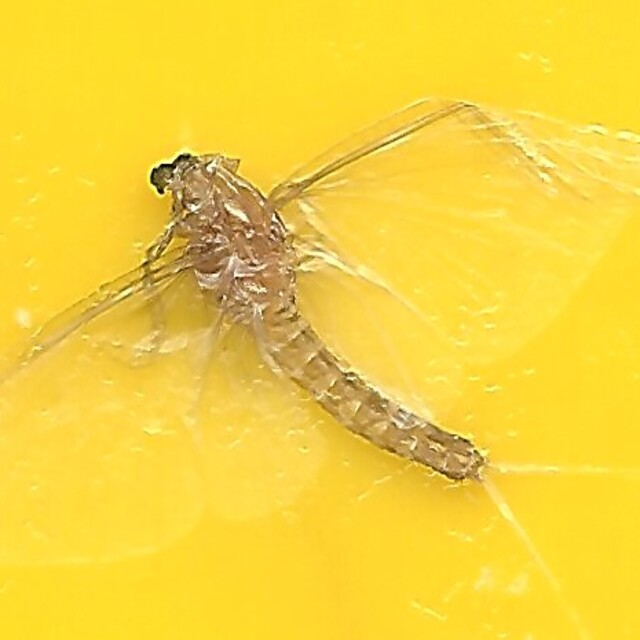Ephemeroptera: (138, 155, 502, 485)
